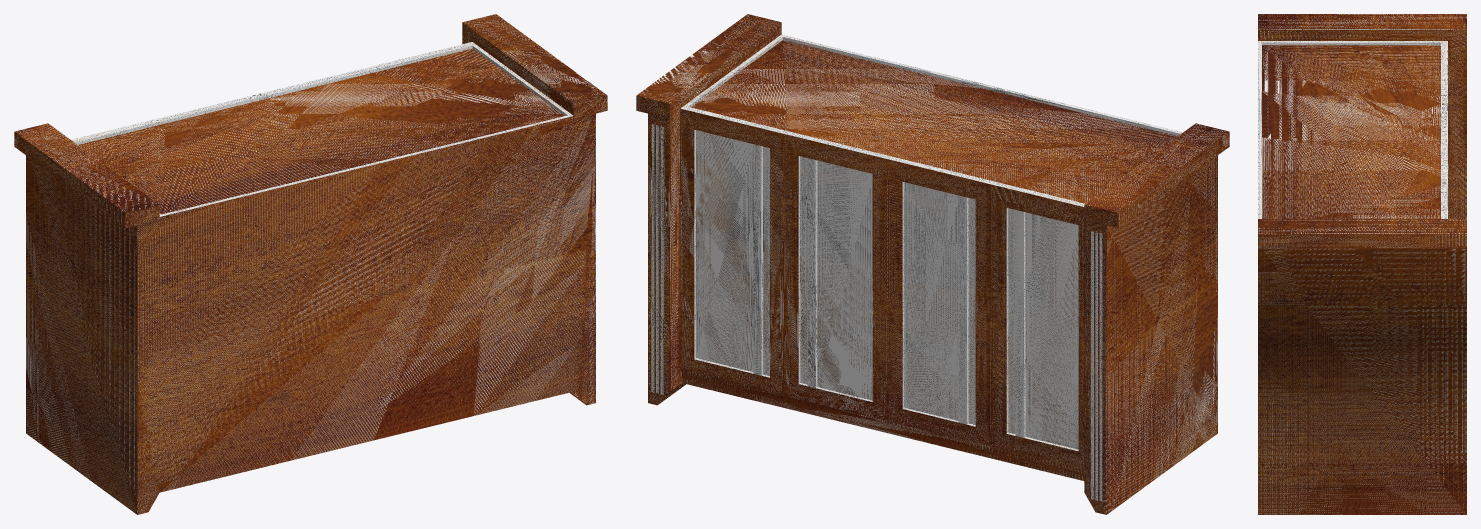
The picture shows the model from 3 angles, left to right: view 1: azimuth 30°, elevation 25°; view 2: azimuth 150°, elevation 25°; view 3: azimuth 270°, elevation 25°; orthographic projection. The views are drawn at different scales.
Parts seen in each view (by area): view 1: mesh1_mesh1-geometry; view 2: mesh1_mesh1-geometry; view 3: mesh1_mesh1-geometry.
Part boxes in pixels (box(x1,y1,x2,y2)): mesh1_mesh1-geometry: box(14, 14, 607, 514); mesh1_mesh1-geometry: box(636, 14, 1229, 514); mesh1_mesh1-geometry: box(1258, 14, 1466, 514).
Bounding box in the file's own units: 0.8097 × 0.4893 × 0.3241.
